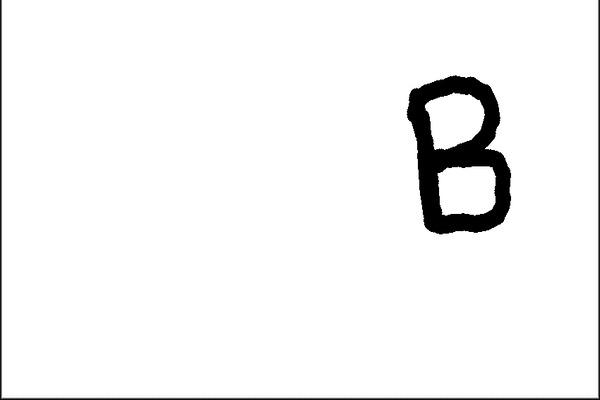B: (397, 60, 529, 246)
